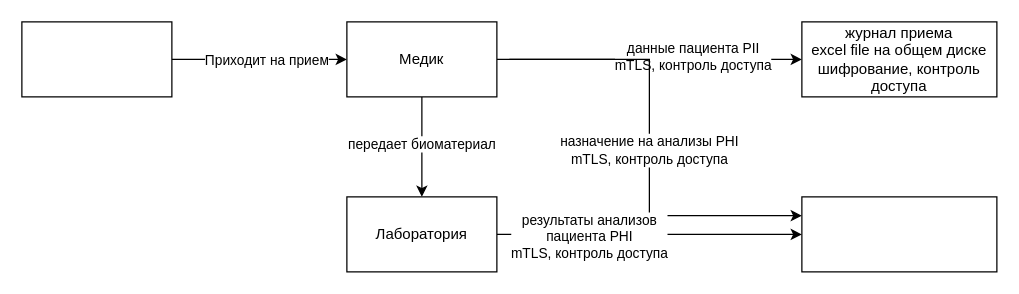
Image size: 1019x294. Some labels were removed from this diagram. Here are the shapes that lost their labels. From the top down, the centre of each, then its label:
At [96,59]: "Пациент".
At [899,234]: "анализы excel file на общем диске шифрование, контроль доступа".
